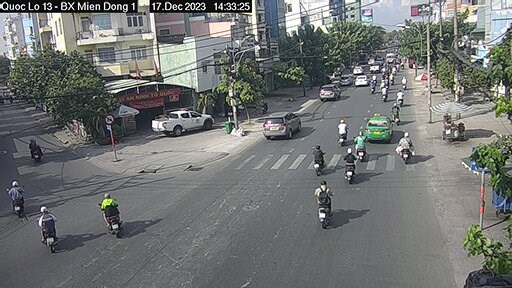car: (152, 108, 216, 136), (262, 113, 302, 139), (360, 114, 394, 140), (317, 83, 343, 101), (352, 73, 369, 88), (369, 59, 380, 73), (352, 66, 361, 75)
motorbike: (96, 191, 127, 236), (38, 206, 58, 252), (317, 181, 335, 229), (9, 180, 31, 216), (397, 132, 414, 165), (344, 145, 357, 186), (313, 141, 326, 177), (337, 118, 349, 148)
